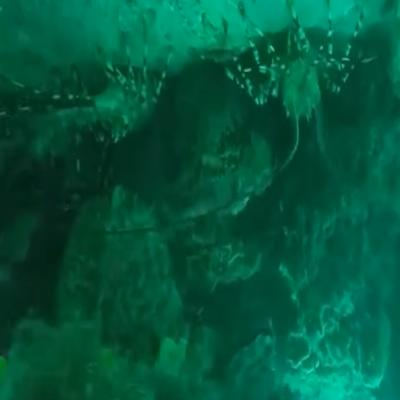lobster: (248, 16, 343, 123), (76, 48, 161, 142)
